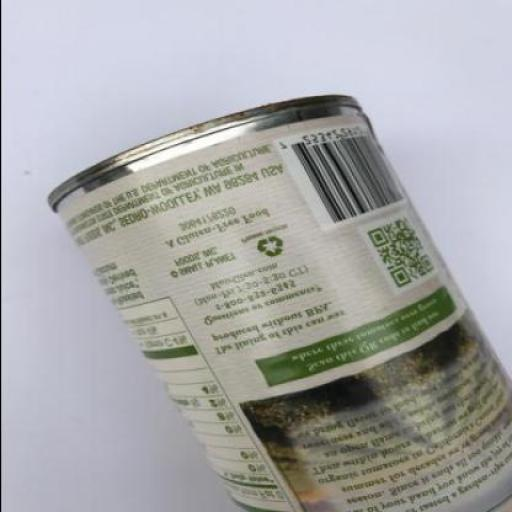metal: (47, 94, 511, 512)
